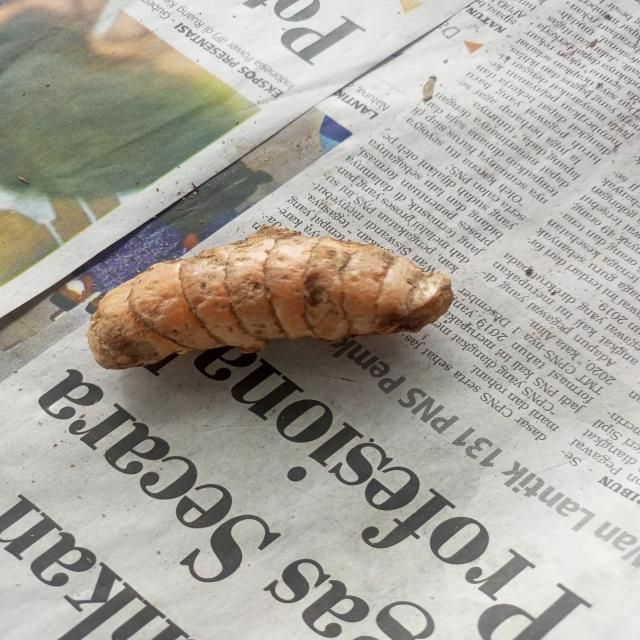ginger: (95, 247, 458, 355)
